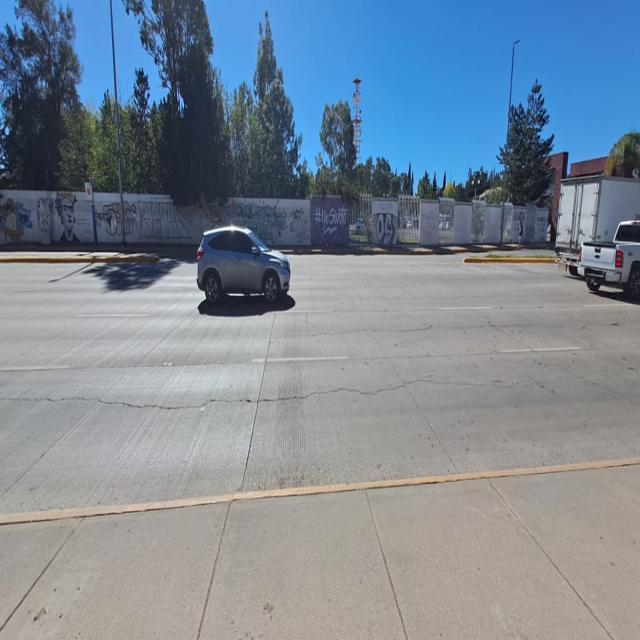Auto: (198, 225, 290, 304), (555, 175, 640, 254), (578, 219, 640, 300)
Autobus: (518, 219, 524, 248)
